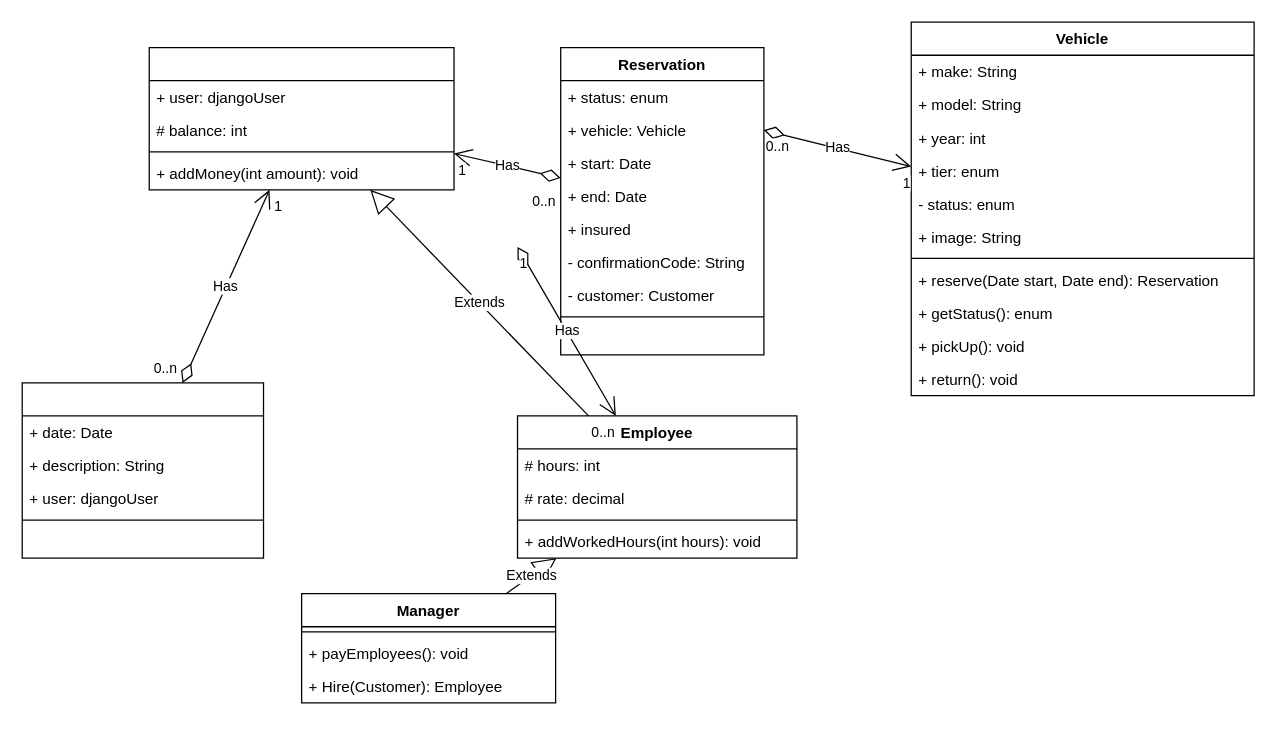
This 1276x729 diagram has some shape labels left out. The shapes that lost their labels are listed below. From the top down, each one's box as (x1, y1, x2, y2) in pixels, then its label:
(148, 46, 454, 190): Customer
(21, 382, 264, 558): Complaint
